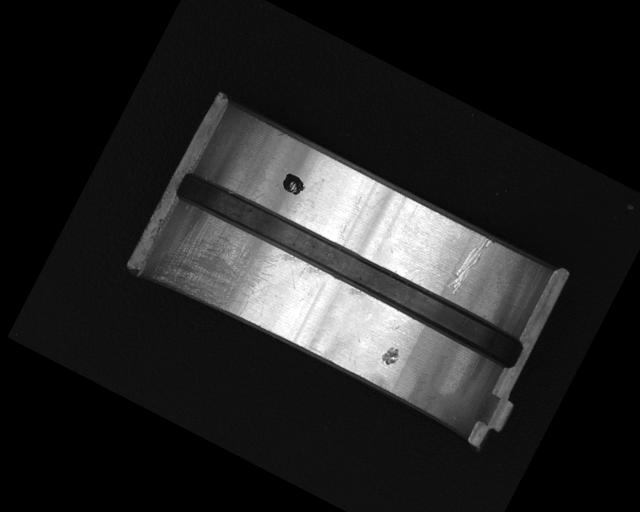blot: (277, 170, 310, 199)
bruise: (377, 341, 405, 370)
gap: (169, 164, 529, 374)
nick: (443, 228, 495, 299)
scratch: (145, 198, 299, 336)
